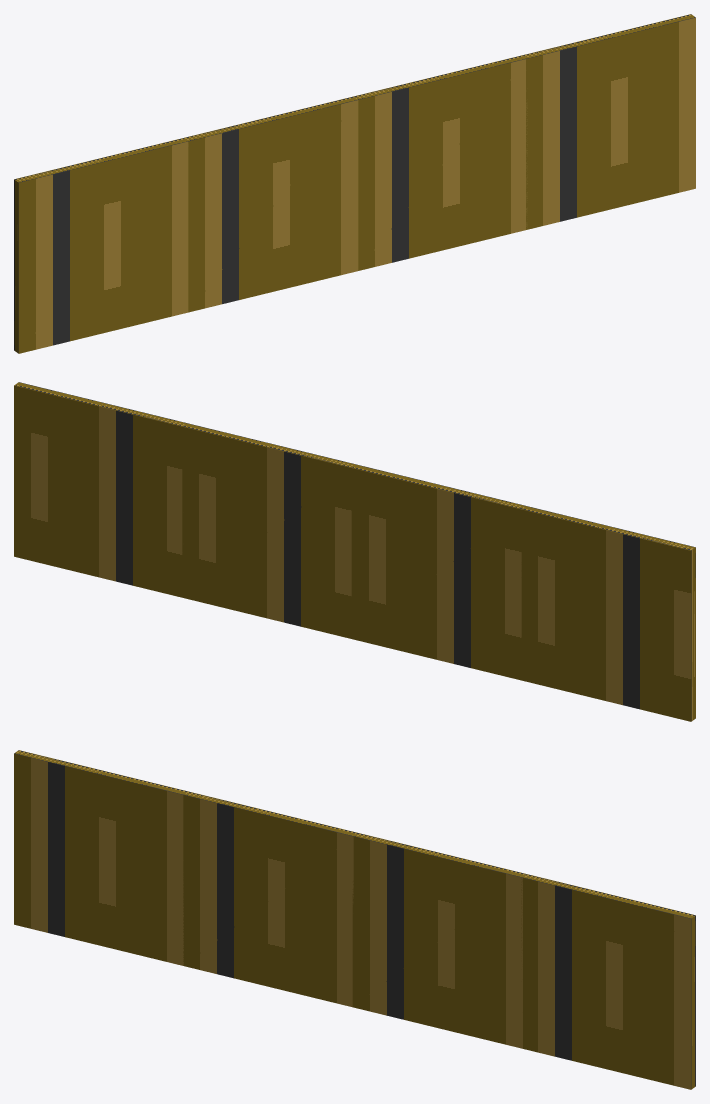
Rendered from Pared.fbx.
3 renders of one model, top to bottom at view 1: azimuth 30°, elevation 25°; view 2: azimuth 150°, elevation 25°; view 3: azimuth 330°, elevation 25°, orthographic.
Visible parts, largest first — view 1: Pared.002, Pared, Pared.003, Pared.001; view 2: Pared.002, Pared, Pared.001, Pared.003; view 3: Pared.003, Pared.001, Pared, Pared.002.
Boxes of the visible parts, box(x1,y1,x2,y2) form: Pared.002: box(14, 138, 188, 353); Pared: box(184, 96, 358, 312); Pared.003: box(522, 14, 695, 229); Pared.001: box(353, 55, 527, 270); Pared.002: box(521, 506, 695, 721); Pared: box(351, 464, 525, 680); Pared.001: box(182, 423, 355, 638); Pared.003: box(14, 382, 186, 597); Pared.003: box(521, 874, 695, 1089); Pared.001: box(352, 832, 526, 1048); Pared: box(183, 791, 356, 1007); Pared.002: box(14, 750, 187, 965).
Size of the model in its own units: 31386 by 7578 by 387.
4 materials, 4 textured.
